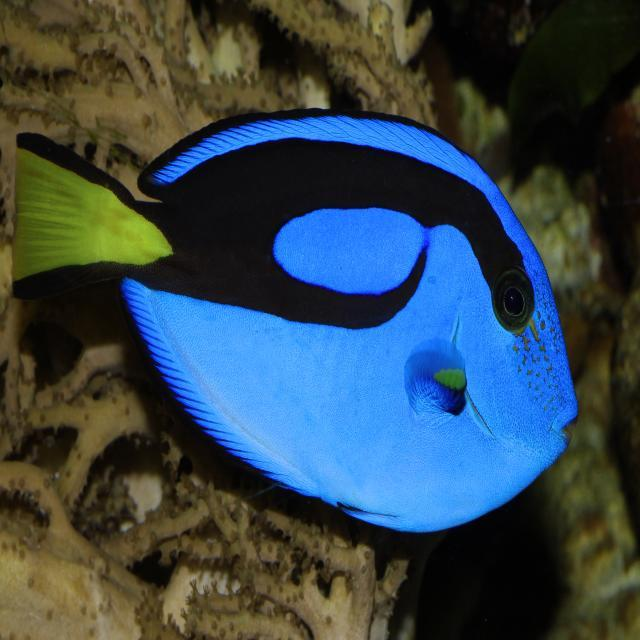BlueTang: (12, 110, 596, 528)
